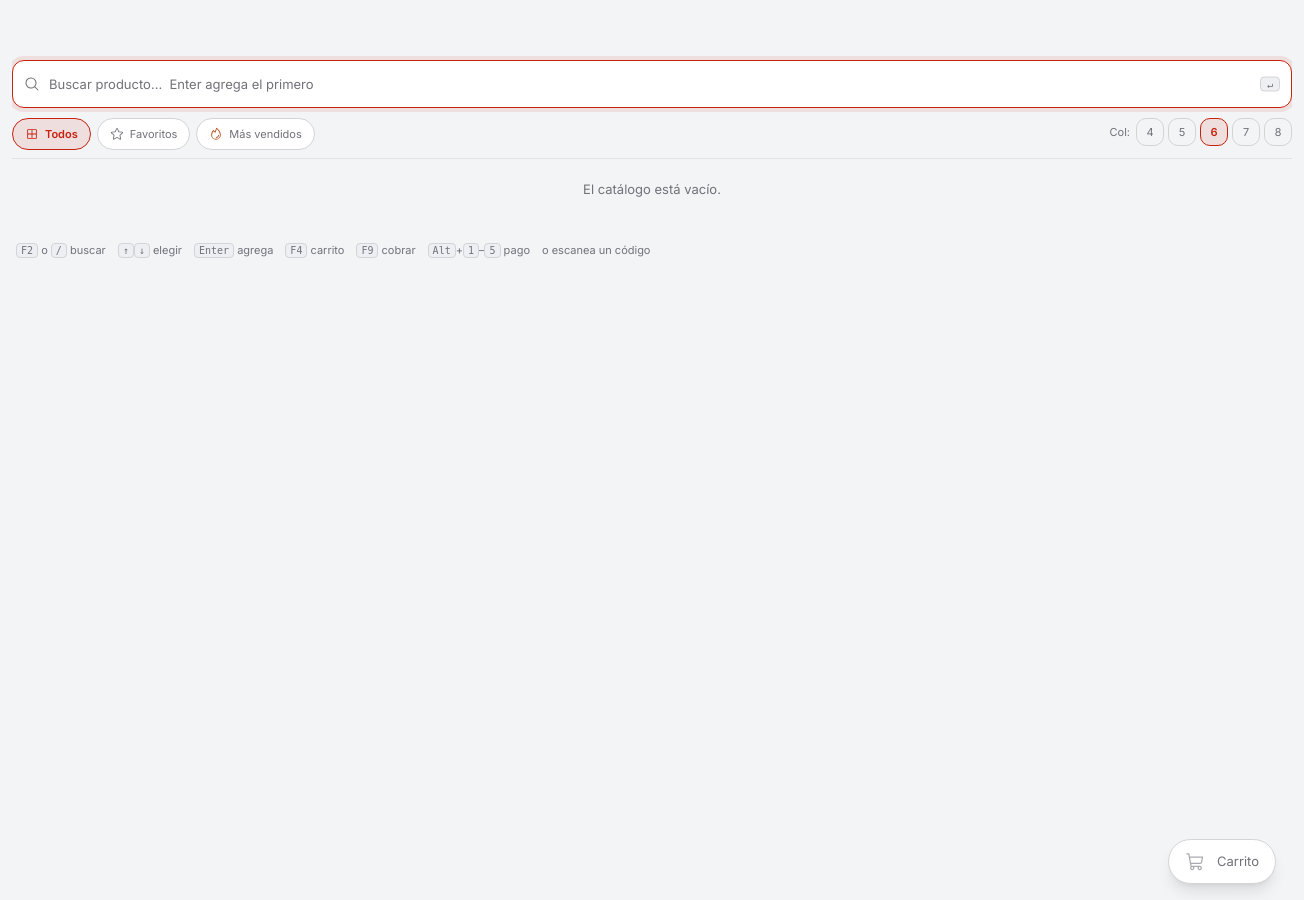
Test case: TabVentasRapidas › escribir filtra la grilla LOCALMENTE: sin round-trip ?q= cuando el catálogo resuelve
Type "mar" into the field labelled "Buscar producto" at (652, 84), box [12,60,1292,108]
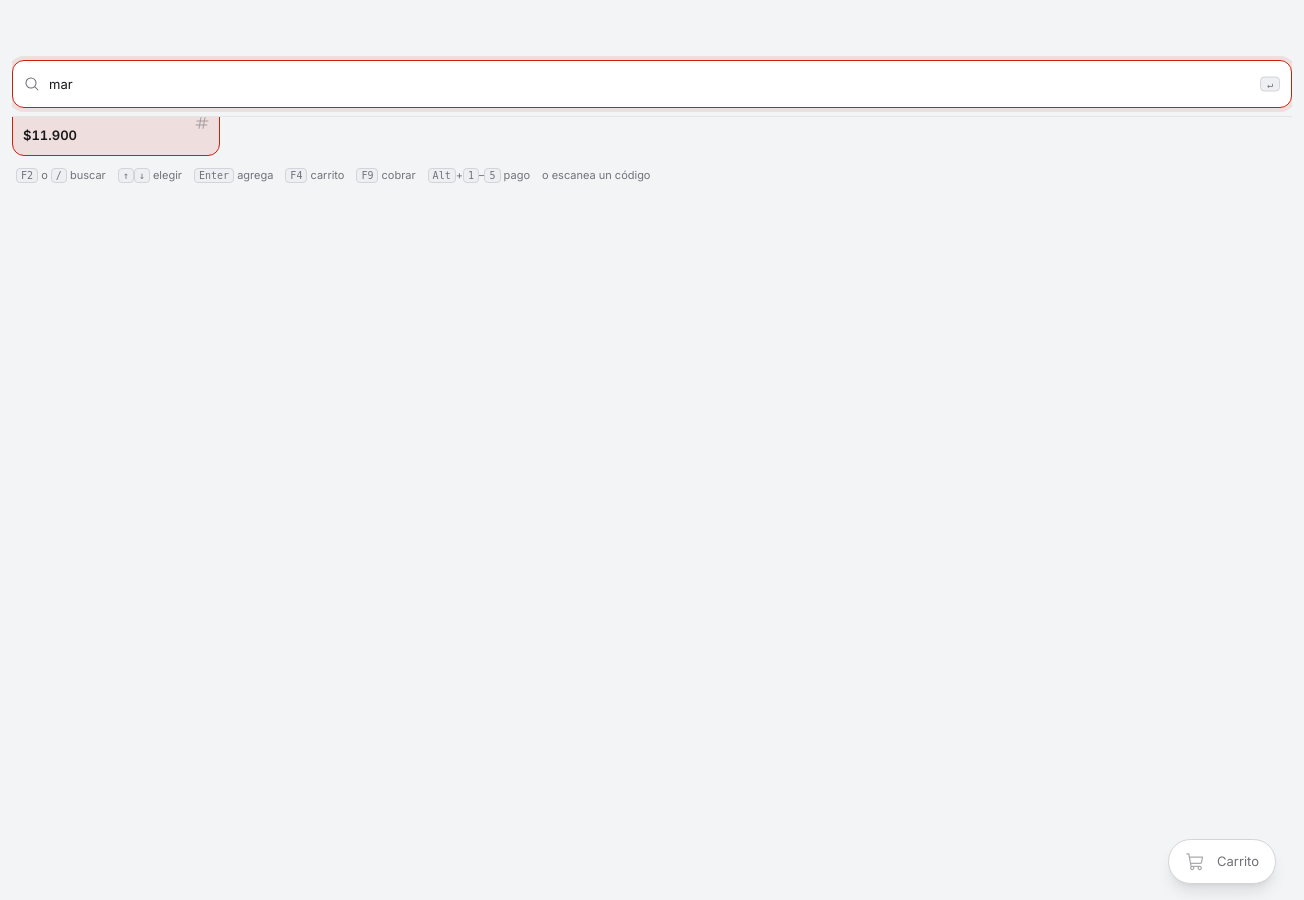
Expected: the button with aria-label "Agregar Martillo" is shown, [12,69,220,156]
